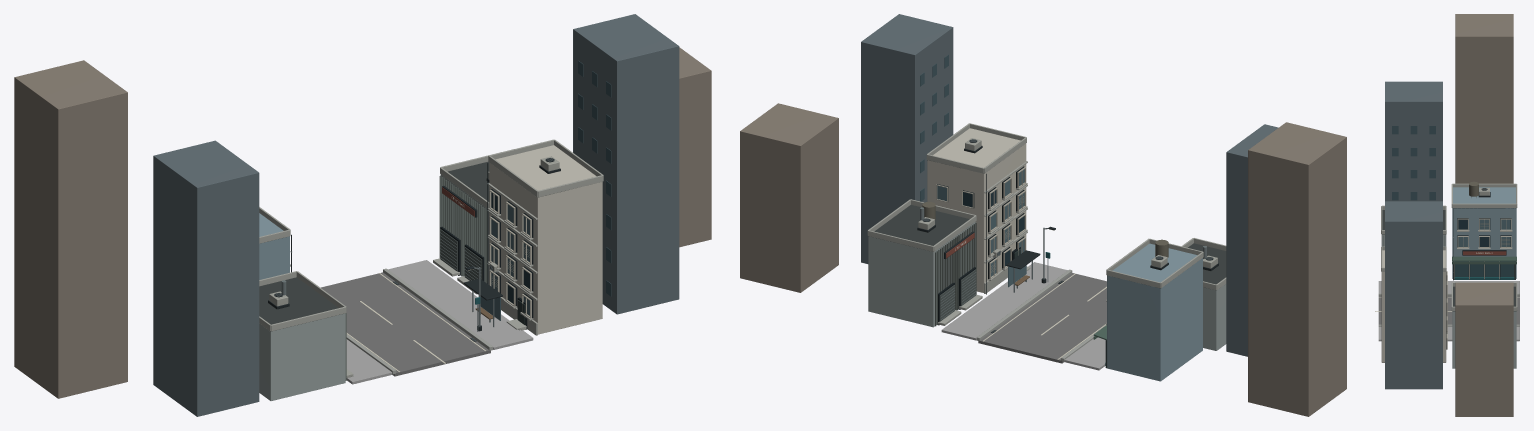
File: city_hd_18.glb
3 views of the same model, side by side, from view 1: azimuth 30°, elevation 25°; view 2: azimuth 150°, elevation 25°; view 3: azimuth 270°, elevation 25° (orthographic). The views are drawn at different scales.
Parts seen in each view (by area): view 1: CITY_distant_2, CITY_distant_3, Masonry apartment volume, CITY_PBR_asphalt, CITY_wall_gray, CITY_trim, CITY_PBR_pavement, CITY_roof, CITY_warehouse_metal, CITY_frame, Mixed use shop volume, CITY_glass (+6 smaller); view 2: CITY_distant_3, CITY_distant_2, Mixed use shop volume, CITY_wall_gray, Masonry apartment volume, CITY_PBR_asphalt, CITY_trim, CITY_PBR_pavement, CITY_roof, CITY_warehouse_metal, CITY_frame, CITY_glass (+7 smaller); view 3: CITY_distant_3, CITY_distant_2, Mixed use shop volume, CITY_trim, Masonry apartment volume, CITY_distant_window, CITY_shop_glass, CITY_frame, CITY_awning_green, CITY_wall_gray, CITY_PBR_pavement, CITY_glass (+8 smaller).
Part boxes in pixels (x1,y1,x2,y2): CITY_distant_2: (153,14,679,416); CITY_distant_3: (14,47,711,398); Masonry apartment volume: (489,145,602,334); CITY_PBR_asphalt: (321,272,490,376); CITY_wall_gray: (259,174,489,400); CITY_trim: (259,139,603,377); CITY_PBR_pavement: (346,260,533,384); CITY_roof: (259,161,538,331); CITY_warehouse_metal: (345,175,487,380); CITY_frame: (489,190,531,318); Mixed use shop volume: (259,213,289,279); CITY_glass: (480,204,529,320); CITY_distant_3: (740,103,1346,416); CITY_distant_2: (861,14,1278,356); Mixed use shop volume: (1107,243,1202,381); CITY_wall_gray: (868,222,1226,350); Masonry apartment volume: (927,128,1026,292); CITY_PBR_asphalt: (978,273,1106,363); CITY_trim: (867,123,1226,325); CITY_PBR_pavement: (941,262,1105,370); CITY_roof: (874,160,1226,290); CITY_warehouse_metal: (935,222,976,326); CITY_frame: (936,167,1025,279); CITY_glass: (937,169,1026,287); CITY_distant_3: (1455,14,1513,416); CITY_distant_2: (1385,81,1442,389); Mixed use shop volume: (1452,187,1516,278); CITY_trim: (1381,183,1517,310); Masonry apartment volume: (1381,250,1446,362); CITY_distant_window: (1392,126,1435,200); CITY_shop_glass: (1455,261,1513,276); CITY_frame: (1446,218,1511,349); CITY_awning_green: (1452,256,1516,264); CITY_wall_gray: (1381,234,1516,368); CITY_PBR_pavement: (1378,281,1519,341); CITY_glass: (1458,219,1510,246).
Bounding box in the file's own units: 56.65 × 24.26 × 16.4.
